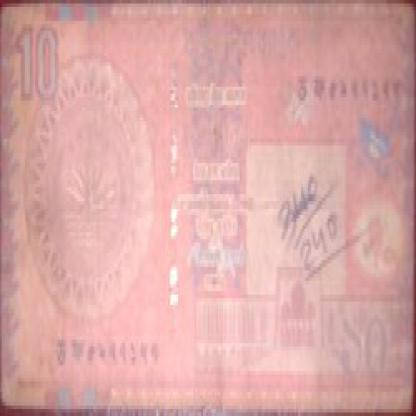Ten Taka: (322, 298, 404, 399), (10, 14, 73, 118)
